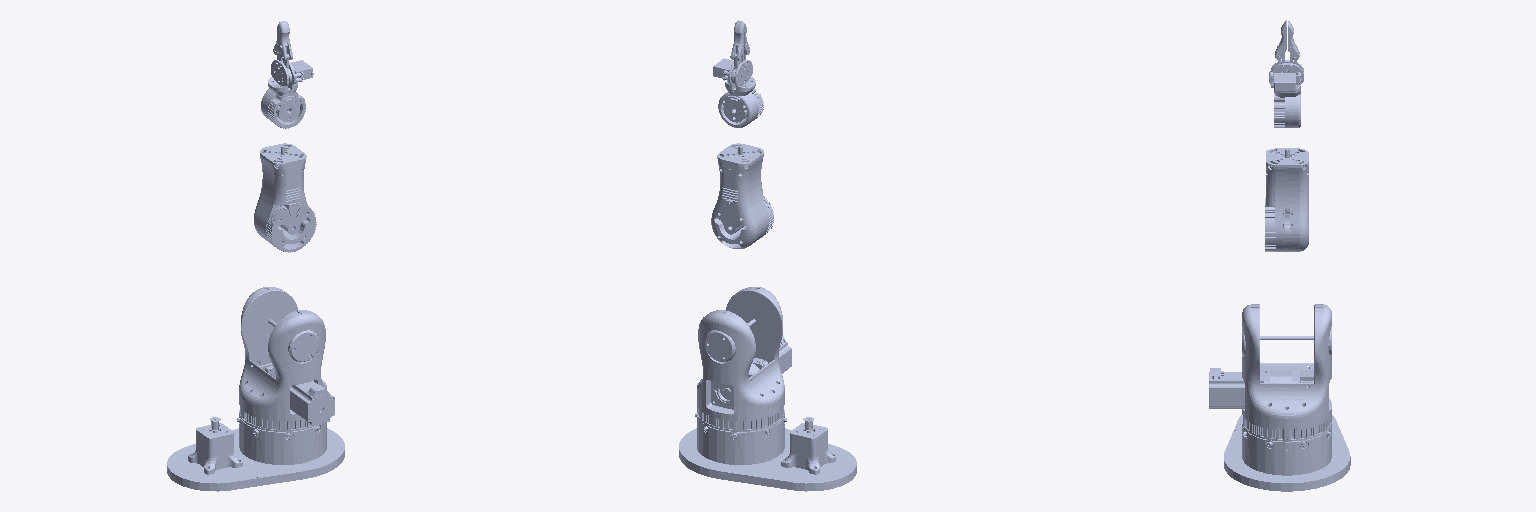
The robot description file, URDF, robot "urdf_v13":
<?xml version="1.0" encoding="utf-8"?>
<!-- This URDF was automatically created by SolidWorks to URDF Exporter! Originally created by [author] ([email redacted]) 
     Commit Version: 1.6.0-4-g7f85cfe  Build Version: 1.6.7995.38578
     For more information, please see http://wiki.ros.org/sw_urdf_exporter -->
<robot
  name="urdf_v13">
  <link
    name="base">
    <inertial>
      <origin
        xyz="-0.0277896697354601 0.0234076931624306 0.0288009133438038"
        rpy="0 0 0" />
      <mass
        value="1.80445503916793" />
      <inertia
        ixx="0.00557261131280998"
        ixy="1.30566192642701E-06"
        ixz="-0.000539475236936669"
        iyy="0.0133501948744146"
        iyz="4.5057309541013E-07"
        izz="0.0165394809251447" />
    </inertial>
    <visual>
      <origin
        xyz="0 0 0"
        rpy="0 0 0" />
      <geometry>
        <mesh
          filename="package://urdf_v13/meshes/base.STL" />
      </geometry>
      <material
        name="">
        <color
          rgba="0.792156862745098 0.819607843137255 0.933333333333333 1" />
      </material>
    </visual>
    <collision>
      <origin
        xyz="0 0 0"
        rpy="0 0 0" />
      <geometry>
        <mesh
          filename="package://urdf_v13/meshes/base.STL" />
      </geometry>
    </collision>
  </link>
  <link
    name="base_link ">
    <inertial>
      <origin
        xyz="0.0157132867710387 0.011527563469556 0.181315183145615"
        rpy="0 0 0" />
      <mass
        value="2.0908950803249" />
      <inertia
        ixx="0.0136133861664865"
        ixy="4.81773478827004E-06"
        ixz="-8.58975681068001E-06"
        iyy="0.00966545437107063"
        iyz="-0.000408881289480725"
        izz="0.00889732683613508" />
    </inertial>
    <visual>
      <origin
        xyz="0 0 0"
        rpy="0 0 0" />
      <geometry>
        <mesh
          filename="package://urdf_v13/meshes/base_link .STL" />
      </geometry>
      <material
        name="">
        <color
          rgba="0.792156862745098 0.819607843137255 0.933333333333333 1" />
      </material>
    </visual>
    <collision>
      <origin
        xyz="0 0 0"
        rpy="0 0 0" />
      <geometry>
        <mesh
          filename="package://urdf_v13/meshes/base_link .STL" />
      </geometry>
    </collision>
  </link>
  <joint
    name="joint_1"
    type="continuous">
    <origin
      xyz="0 0 -0.0180509602434739"
      rpy="0 0 0" />
    <parent
      link="base" />
    <child
      link="base_link " />
    <axis
      xyz="0 0 1" />
  </joint>
  <link
    name="shoulder">
    <inertial>
      <origin
        xyz="0.0158644325831852 0.0250416390611225 0.17855530611738"
        rpy="0 0 0" />
      <mass
        value="1.93113192622589" />
      <inertia
        ixx="0.0170862699501739"
        ixy="3.41462451953223E-06"
        ixz="-5.32111355364035E-07"
        iyy="0.0162697572670435"
        iyz="-0.000123096764239296"
        izz="0.00359988405467639" />
    </inertial>
    <visual>
      <origin
        xyz="0 0 0"
        rpy="0 0 0" />
      <geometry>
        <mesh
          filename="package://urdf_v13/meshes/shoulder.STL" />
      </geometry>
      <material
        name="">
        <color
          rgba="0.792156862745098 0.819607843137255 0.933333333333333 1" />
      </material>
    </visual>
    <collision>
      <origin
        xyz="0 0 0"
        rpy="0 0 0" />
      <geometry>
        <mesh
          filename="package://urdf_v13/meshes/shoulder.STL" />
      </geometry>
    </collision>
  </link>
  <joint
    name="joint_2"
    type="continuous">
    <origin
      xyz="0 0 0.166937311025839"
      rpy="0 0 0" />
    <parent
      link="base_link " />
    <child
      link="shoulder" />
    <axis
      xyz="0 1 0" />
  </joint>
  <link
    name="elbow">
    <inertial>
      <origin
        xyz="0.0156751031156568 0.0231946110175747 0.141664731776711"
        rpy="0 0 0" />
      <mass
        value="0.777952609021552" />
      <inertia
        ixx="0.00228138056803763"
        ixy="6.75259481652496E-08"
        ixz="-6.02427649407098E-07"
        iyy="0.00230093031518261"
        iyz="-3.06257703779093E-05"
        izz="0.000730694022246971" />
    </inertial>
    <visual>
      <origin
        xyz="0 0 0"
        rpy="0 0 0" />
      <geometry>
        <mesh
          filename="package://urdf_v13/meshes/elbow.STL" />
      </geometry>
      <material
        name="">
        <color
          rgba="0.792156862745098 0.819607843137255 0.933333333333333 1" />
      </material>
    </visual>
    <collision>
      <origin
        xyz="0 0 0"
        rpy="0 0 0" />
      <geometry>
        <mesh
          filename="package://urdf_v13/meshes/elbow.STL" />
      </geometry>
    </collision>
  </link>
  <joint
    name="joint_3"
    type="continuous">
    <origin
      xyz="0 0 0.221123792803555"
      rpy="0 0 0" />
    <parent
      link="shoulder" />
    <child
      link="elbow" />
    <axis
      xyz="0 1 0" />
  </joint>
  <link
    name="wrist_1">
    <inertial>
      <origin
        xyz="0.0159030354040345 0.0259392118518237 0.153821390871627"
        rpy="0 0 0" />
      <mass
        value="0.336033452724396" />
      <inertia
        ixx="0.000698588486759076"
        ixy="-1.06886801075681E-06"
        ixz="4.79927277965645E-06"
        iyy="0.000573509249244581"
        iyz="1.1210347872576E-05"
        izz="0.000348806449824869" />
    </inertial>
    <visual>
      <origin
        xyz="0 0 0"
        rpy="0 0 0" />
      <geometry>
        <mesh
          filename="package://urdf_v13/meshes/wrist_1.STL" />
      </geometry>
      <material
        name="">
        <color
          rgba="0.792156862745098 0.819607843137255 0.933333333333333 1" />
      </material>
    </visual>
    <collision>
      <origin
        xyz="0 0 0"
        rpy="0 0 0" />
      <geometry>
        <mesh
          filename="package://urdf_v13/meshes/wrist_1.STL" />
      </geometry>
    </collision>
  </link>
  <joint
    name="joint_4"
    type="continuous">
    <origin
      xyz="0 0.000500999999999197 0.129539254362447"
      rpy="0 0 0" />
    <parent
      link="elbow" />
    <child
      link="wrist_1" />
    <axis
      xyz="0 0 1" />
  </joint>
  <link
    name="wrist_2">
    <inertial>
      <origin
        xyz="0.0157674862176449 0.0237812522174354 0.102441849136459"
        rpy="0 0 0" />
      <mass
        value="0.158624033379916" />
      <inertia
        ixx="8.93595815588674E-05"
        ixy="-2.61047265873393E-09"
        ixz="-6.69970075346958E-08"
        iyy="0.000106318553763208"
        iyz="-6.19881915619708E-07"
        izz="7.50977668332816E-05" />
    </inertial>
    <visual>
      <origin
        xyz="0 0 0"
        rpy="0 0 0" />
      <geometry>
        <mesh
          filename="package://urdf_v13/meshes/wrist_2.STL" />
      </geometry>
      <material
        name="">
        <color
          rgba="0.792156862745098 0.819607843137255 0.933333333333333 1" />
      </material>
    </visual>
    <collision>
      <origin
        xyz="0 0 0"
        rpy="0 0 0" />
      <geometry>
        <mesh
          filename="package://urdf_v13/meshes/wrist_2.STL" />
      </geometry>
    </collision>
  </link>
  <joint
    name="joint_5"
    type="continuous">
    <origin
      xyz="0 0 0.0989607456375549"
      rpy="0 0 0" />
    <parent
      link="wrist_1" />
    <child
      link="wrist_2" />
    <axis
      xyz="0 1 0" />
  </joint>
  <link
    name="gripper_base">
    <inertial>
      <origin
        xyz="0.0311543631012245 0.0219860046701297 0.827225403554435"
        rpy="0 0 0" />
      <mass
        value="0.0669550622955671" />
      <inertia
        ixx="2.2488510700292E-05"
        ixy="2.35779600515651E-06"
        ixz="-2.87441674027797E-06"
        iyy="3.18452559004306E-05"
        iyz="3.57683917730688E-07"
        izz="3.6764941926078E-05" />
    </inertial>
    <visual>
      <origin
        xyz="0 0 0"
        rpy="0 0 0" />
      <geometry>
        <mesh
          filename="package://urdf_v13/meshes/gripper_base.STL" />
      </geometry>
      <material
        name="">
        <color
          rgba="0.792156862745098 0.819607843137255 0.933333333333333 1" />
      </material>
    </visual>
    <collision>
      <origin
        xyz="0 0 0"
        rpy="0 0 0" />
      <geometry>
        <mesh
          filename="package://urdf_v13/meshes/gripper_base.STL" />
      </geometry>
    </collision>
  </link>
  <joint
    name="joint_6"
    type="fixed">
    <origin
      xyz="0 -0.000501000000000529 -0.666561103829396"
      rpy="0 0 0" />
    <parent
      link="wrist_2" />
    <child
      link="gripper_base" />
    <axis
      xyz="0 0 0" />
  </joint>
  <link
    name="gear1">
    <inertial>
      <origin
        xyz="0.00313198684933286 -0.00793428519853567 -0.000937207722399469"
        rpy="0 0 0" />
      <mass
        value="0.00438273150204091" />
      <inertia
        ixx="9.89317514920692E-07"
        ixy="1.98721217439533E-10"
        ixz="-7.64270897286561E-10"
        iyy="1.89001297656354E-07"
        iyz="4.2380206136184E-08"
        izz="8.26162951691309E-07" />
    </inertial>
    <visual>
      <origin
        xyz="0 0 0"
        rpy="0 0 0" />
      <geometry>
        <mesh
          filename="package://urdf_v13/meshes/gear1.STL" />
      </geometry>
      <material
        name="">
        <color
          rgba="0.792156862745098 0.819607843137255 0.933333333333333 1" />
      </material>
    </visual>
    <collision>
      <origin
        xyz="0 0 0"
        rpy="0 0 0" />
      <geometry>
        <mesh
          filename="package://urdf_v13/meshes/gear1.STL" />
      </geometry>
    </collision>
  </link>
  <joint
    name="joint_7"
    type="continuous">
    <origin
      xyz="0.012918 0.0098964 0.83019"
      rpy="-1.557 0.0046185 0.0046825" />
    <parent
      link="gripper_base" />
    <child
      link="gear1" />
    <axis
      xyz="0.99999 0 -0.0046829" />
  </joint>
  <link
    name="leg1-1">
    <inertial>
      <origin
        xyz="0.00929593827853653 -0.000672410163301662 0.0475923881852577"
        rpy="0 0 0" />
      <mass
        value="0.0106754375171177" />
      <inertia
        ixx="4.10221567194112E-06"
        ixy="-1.70838921650436E-09"
        ixz="-9.73748421487221E-09"
        iyy="4.17675309849189E-06"
        iyz="-6.39771162925857E-07"
        izz="5.77183539710229E-07" />
    </inertial>
    <visual>
      <origin
        xyz="0 0 0"
        rpy="0 0 0" />
      <geometry>
        <mesh
          filename="package://urdf_v13/meshes/leg1-1.STL" />
      </geometry>
      <material
        name="">
        <color
          rgba="0.792156862745098 0.819607843137255 0.933333333333333 1" />
      </material>
    </visual>
    <collision>
      <origin
        xyz="0 0 0"
        rpy="0 0 0" />
      <geometry>
        <mesh
          filename="package://urdf_v13/meshes/leg1-1.STL" />
      </geometry>
    </collision>
  </link>
  <joint
    name="joint_11"
    type="continuous">
    <origin
      xyz="-0.0058669 -0.019902 0.0073019"
      rpy="1.557 0.0046185 -0.0046825" />
    <parent
      link="gear1" />
    <child
      link="leg1-1" />
    <axis
      xyz="0.99999 0 -0.0046829" />
  </joint>
  <link
    name="gear2">
    <inertial>
      <origin
        xyz="-0.00318902666581239 -0.00793429231115339 -0.000907627991649673"
        rpy="0 0 0" />
      <mass
        value="0.00438273150118501" />
      <inertia
        ixx="9.89317512176908E-07"
        ixy="1.98723840792223E-10"
        ixz="-7.64271429460756E-10"
        iyy="1.8900129733958E-07"
        iyz="4.23802040849066E-08"
        izz="8.26162949301807E-07" />
    </inertial>
    <visual>
      <origin
        xyz="0 0 0"
        rpy="0 0 0" />
      <geometry>
        <mesh
          filename="package://urdf_v13/meshes/gear2.STL" />
      </geometry>
      <material
        name="">
        <color
          rgba="0.792156862745098 0.819607843137255 0.933333333333333 1" />
      </material>
    </visual>
    <collision>
      <origin
        xyz="0 0 0"
        rpy="0 0 0" />
      <geometry>
        <mesh
          filename="package://urdf_v13/meshes/gear2.STL" />
      </geometry>
    </collision>
  </link>
  <joint
    name="joint_8"
    type="continuous">
    <origin
      xyz="0.012869 0.037896 0.83019"
      rpy="-1.5571 -0.0047473 -3.1369" />
    <parent
      link="gripper_base" />
    <child
      link="gear2" />
    <axis
      xyz="0.99999 0 -0.0046829" />
    <mimic
      joint="joint_7"
      multiplier="-1"
      offset="0" />
  </joint>
  <link
    name="leg2-1">
    <inertial>
      <origin
        xyz="-9.84910138235873E-05 -0.0497032594027377 0.764625844934635"
        rpy="0 0 0" />
      <mass
        value="0.0106754461770068" />
      <inertia
        ixx="4.10221667015748E-06"
        ixy="-1.70826774117018E-09"
        ixz="-9.737844708791E-09"
        iyy="4.1767521586401E-06"
        iyz="-6.3977502648894E-07"
        izz="5.77185107952803E-07" />
    </inertial>
    <visual>
      <origin
        xyz="0 0 0"
        rpy="0 0 0" />
      <geometry>
        <mesh
          filename="package://urdf_v13/meshes/leg2-1.STL" />
      </geometry>
      <material
        name="">
        <color
          rgba="0.792156862745098 0.819607843137255 0.933333333333333 1" />
      </material>
    </visual>
    <collision>
      <origin
        xyz="0 0 0"
        rpy="0 0 0" />
      <geometry>
        <mesh
          filename="package://urdf_v13/meshes/leg2-1.STL" />
      </geometry>
    </collision>
  </link>
  <joint
    name="joint_12"
    type="continuous">
    <origin
      xyz="0.00074747 0.69769 0.046439"
      rpy="1.557 0.0046185 -0.0046825" />
    <parent
      link="gear2" />
    <child
      link="leg2-1" />
    <axis
      xyz="0.99999 0 -0.0046829" />
  </joint>
  <link
    name="parm1">
    <inertial>
      <origin
        xyz="-0.000962488562800623 -0.0199531854233739 3.87129998019597E-06"
        rpy="0 0 0" />
      <mass
        value="0.00163735500294608" />
      <inertia
        ixx="3.04623057395794E-07"
        ixy="3.07371984475705E-14"
        ixz="-4.21698267762809E-12"
        iyy="1.02986323311147E-08"
        iyz="1.85346433869314E-13"
        izz="3.03722580976466E-07" />
    </inertial>
    <visual>
      <origin
        xyz="0 0 0"
        rpy="0 0 0" />
      <geometry>
        <mesh
          filename="package://urdf_v13/meshes/parm1.STL" />
      </geometry>
      <material
        name="">
        <color
          rgba="0.792156862745098 0.819607843137255 0.933333333333333 1" />
      </material>
    </visual>
    <collision>
      <origin
        xyz="0 0 0"
        rpy="0 0 0" />
      <geometry>
        <mesh
          filename="package://urdf_v13/meshes/parm1.STL" />
      </geometry>
    </collision>
  </link>
  <joint
    name="joint_9"
    type="continuous">
    <origin
      xyz="0.01711 0.016896 0.85022"
      rpy="-1.557 0.0046185 0.0046825" />
    <parent
      link="gripper_base" />
    <child
      link="parm1" />
    <axis
      xyz="0.99999 0 -0.0046829" />
    <mimic
      joint="joint_7"
      multiplier="1"
      offset="0" />
  </joint>
  <link
    name="leg1-2">
    <inertial>
      <origin
        xyz="-0.0115018702907058 -0.0454034311581261 0.189387353365705"
        rpy="0 0 0" />
      <mass
        value="7.19967390593973" />
      <inertia
        ixx="0.323207622254133"
        ixy="0.00023412252712874"
        ixz="-0.0188413505826801"
        iyy="0.328495326928997"
        iyz="-0.00343222022113577"
        izz="0.0330870461141578" />
    </inertial>
    <visual>
      <origin
        xyz="0 0 0"
        rpy="0 0 0" />
      <geometry>
        <mesh
          filename="package://urdf_v13/meshes/leg1-2.STL" />
      </geometry>
      <material
        name="">
        <color
          rgba="0.792156862745098 0.819607843137255 0.933333333333333 1" />
      </material>
    </visual>
    <collision>
      <origin
        xyz="0 0 0"
        rpy="0 0 0" />
      <geometry>
        <mesh
          filename="package://urdf_v13/meshes/leg1-2.STL" />
      </geometry>
    </collision>
  </link>
  <joint
    name="jleg1-2"
    type="continuous">
    <origin
      xyz="0.0029356 0.71763 0.039154"
      rpy="1.557 0.0046185 -0.0046825" />
    <parent
      link="parm1" />
    <child
      link="leg1-2" />
    <axis
      xyz="0.99999 0 -0.0046829" />
  </joint>
  <link
    name="parm_2">
    <inertial>
      <origin
        xyz="0.00305752338751347 0.0200000147081389 -1.43499170120465E-05"
        rpy="0 0 0" />
      <mass
        value="0.00163735500294595" />
      <inertia
        ixx="3.04623057395775E-07"
        ixy="-2.70818764202192E-14"
        ixz="-4.21698269416911E-12"
        iyy="1.02986323322032E-08"
        iyz="5.95216422604127E-13"
        izz="3.03722580975357E-07" />
    </inertial>
    <visual>
      <origin
        xyz="0 0 0"
        rpy="0 0 0" />
      <geometry>
        <mesh
          filename="package://urdf_v13/meshes/parm_2.STL" />
      </geometry>
      <material
        name="">
        <color
          rgba="0.792156862745098 0.819607843137255 0.933333333333333 1" />
      </material>
    </visual>
    <collision>
      <origin
        xyz="0 0 0"
        rpy="0 0 0" />
      <geometry>
        <mesh
          filename="package://urdf_v13/meshes/parm_2.STL" />
      </geometry>
    </collision>
  </link>
  <joint
    name="joint_10"
    type="continuous">
    <origin
      xyz="0.01309 0.030896 0.85019"
      rpy="1.557 0.0046185 -0.0046825" />
    <parent
      link="gripper_base" />
    <child
      link="parm_2" />
    <axis
      xyz="0.99999 0 -0.0046829" />
    <mimic
      joint="joint_9"
      multiplier="-1"
      offset="0" />
  </joint>
  <link
    name="leg2-2">
    <inertial>
      <origin
        xyz="0.00584573315564935 -0.0386576817866214 0.189306117047781"
        rpy="0 0 0" />
      <mass
        value="7.19967390593973" />
      <inertia
        ixx="0.323535083460737"
        ixy="0.000266257416978863"
        ixz="0.0161209809569435"
        iyy="0.328495326928997"
        iyz="0.00342987696455514"
        izz="0.0327595849075536" />
    </inertial>
    <visual>
      <origin
        xyz="0 0 0"
        rpy="0 0 0" />
      <geometry>
        <mesh
          filename="package://urdf_v13/meshes/leg2-2.STL" />
      </geometry>
      <material
        name="">
        <color
          rgba="0.792156862745098 0.819607843137255 0.933333333333333 1" />
      </material>
    </visual>
    <collision>
      <origin
        xyz="0 0 0"
        rpy="0 0 0" />
      <geometry>
        <mesh
          filename="package://urdf_v13/meshes/leg2-2.STL" />
      </geometry>
    </collision>
  </link>
  <joint
    name="jleg2-2"
    type="continuous">
    <origin
      xyz="-0.00047375 -0.71759 0.03917"
      rpy="1.5571 -0.0047473 3.1369" />
    <parent
      link="parm_2" />
    <child
      link="leg2-2" />
    <axis
      xyz="0.99999 0 -0.0046829" />
  </joint>
</robot>

--- What the picture shows (computed from the rendered views, not written in the file) ---
3 views of the same robot in one strip: view 1: azimuth 30°, elevation 25°; view 2: azimuth 150°, elevation 25°; view 3: azimuth 270°, elevation 25° (orthographic).
Model urdf_v13 with 15 links and 14 joints (13 continuous, 1 fixed), rooted at base, posed all joints at 0.
Links seen in each view (by area): view 1: base_link, base, elbow, wrist_2, gripper_base; view 2: base_link, base, elbow, wrist_2, gripper_base; view 3: base_link, base, elbow, wrist_2, gripper_base.
Link boxes in pixels (x1,y1,x2,y2): base_link: [239, 287, 334, 431]; base: [167, 415, 344, 491]; elbow: [254, 143, 316, 252]; wrist_2: [261, 86, 305, 128]; gripper_base: [268, 60, 313, 91]; base_link: [697, 287, 791, 431]; base: [679, 413, 856, 491]; elbow: [711, 143, 773, 248]; wrist_2: [718, 87, 763, 127]; gripper_base: [713, 58, 755, 91]; base_link: [1209, 304, 1331, 441]; base: [1224, 415, 1350, 491]; elbow: [1265, 148, 1308, 251]; wrist_2: [1274, 91, 1300, 127]; gripper_base: [1269, 60, 1303, 92].
Bounding box of the posed robot: 0.3415 × 0.2501 × 0.8667 m (x, y, z).
Meshes: 15 distinct files referenced, 11 mesh visuals loaded (11 binary STL); not drawn: 2 (reference not matched to a file when rendering), 2 (file found but could not be loaded).